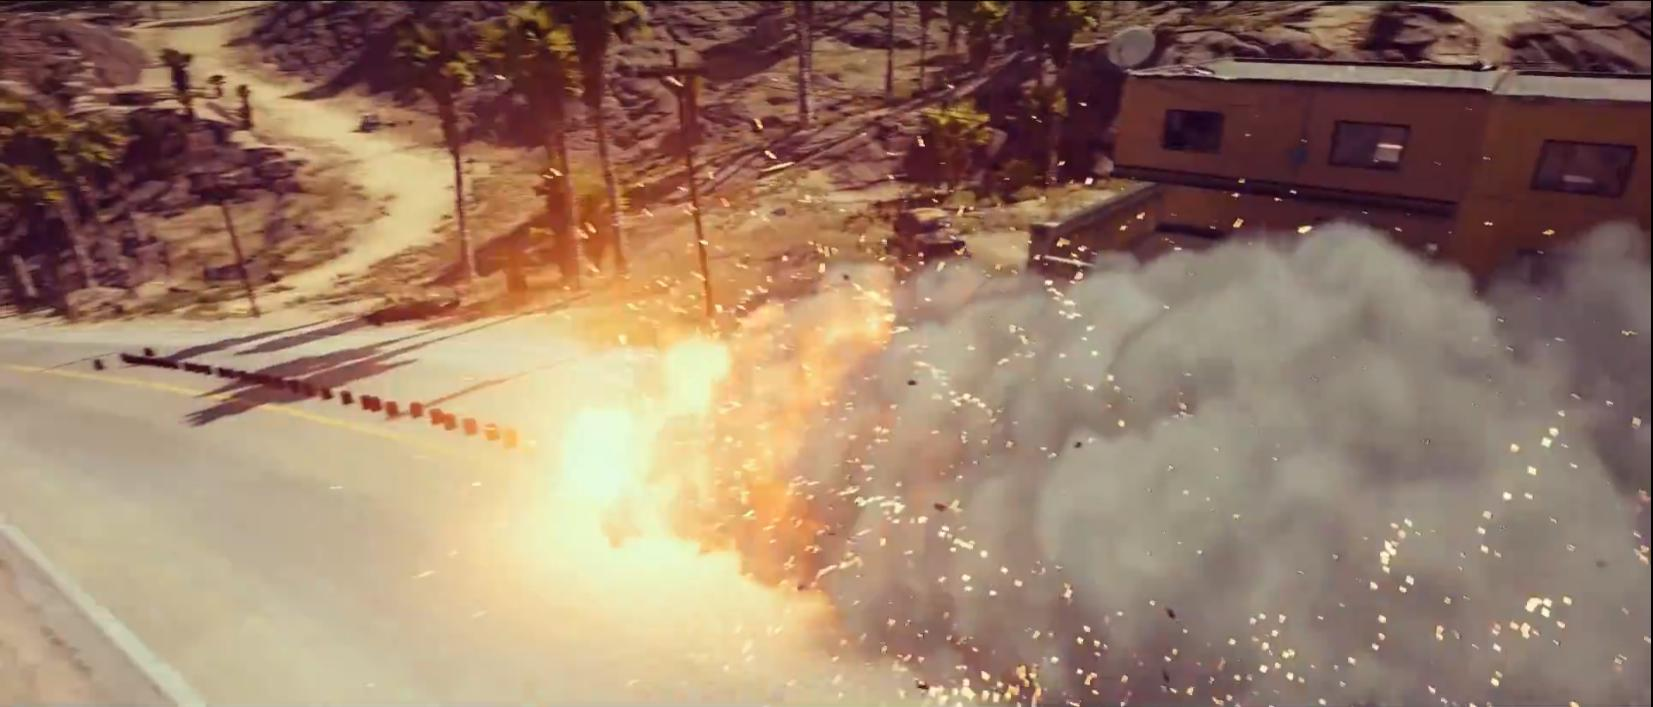fire: (543, 195, 1638, 707)
